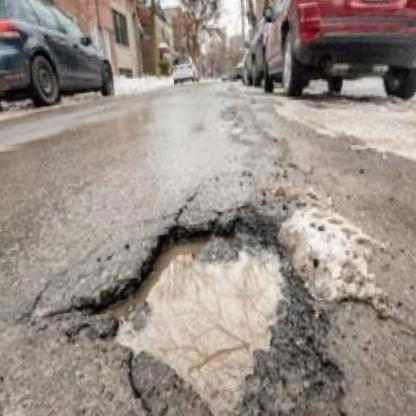pothole: (76, 204, 312, 416)
